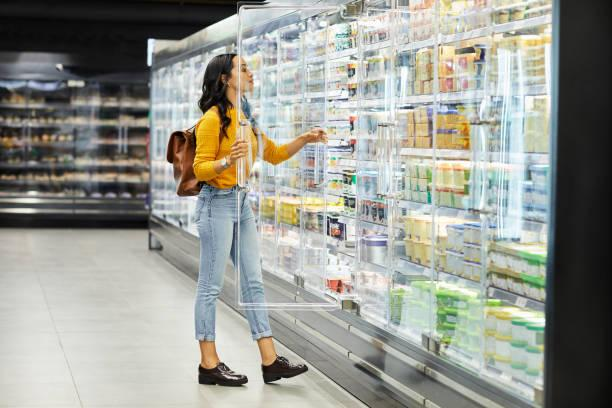article: (438, 107, 455, 129), (512, 316, 526, 342), (348, 84, 356, 98)
